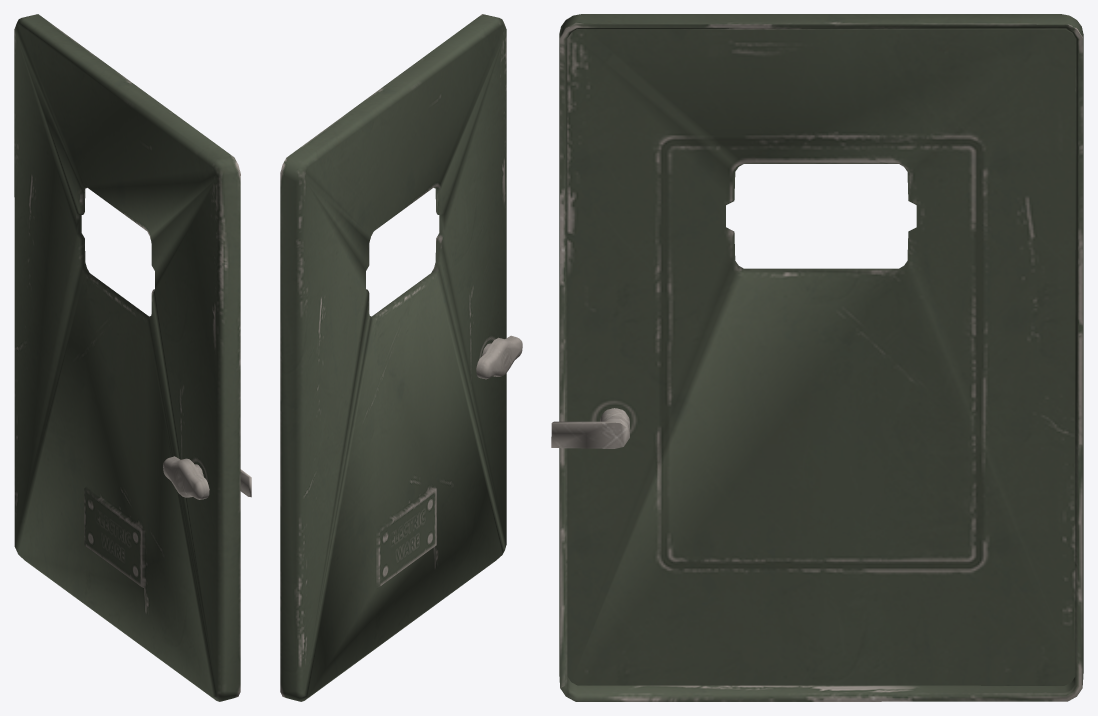
The model's file is FuseDoor.fbx.
The picture shows the model from 3 angles, left to right: view 1: azimuth 30°, elevation 25°; view 2: azimuth 150°, elevation 25°; view 3: azimuth 270°, elevation 25°; orthographic projection. The views are drawn at different scales.
Parts seen in each view (by area): view 1: Fuse_Box.002; view 2: Fuse_Box.002; view 3: Fuse_Box.002.
Boxes of the visible parts, bbox=[...] form: Fuse_Box.002: bbox=[14, 14, 251, 701]; Fuse_Box.002: bbox=[280, 14, 522, 701]; Fuse_Box.002: bbox=[551, 14, 1083, 701].
Size of the model in its own units: 9.14 by 100 by 71.05.
